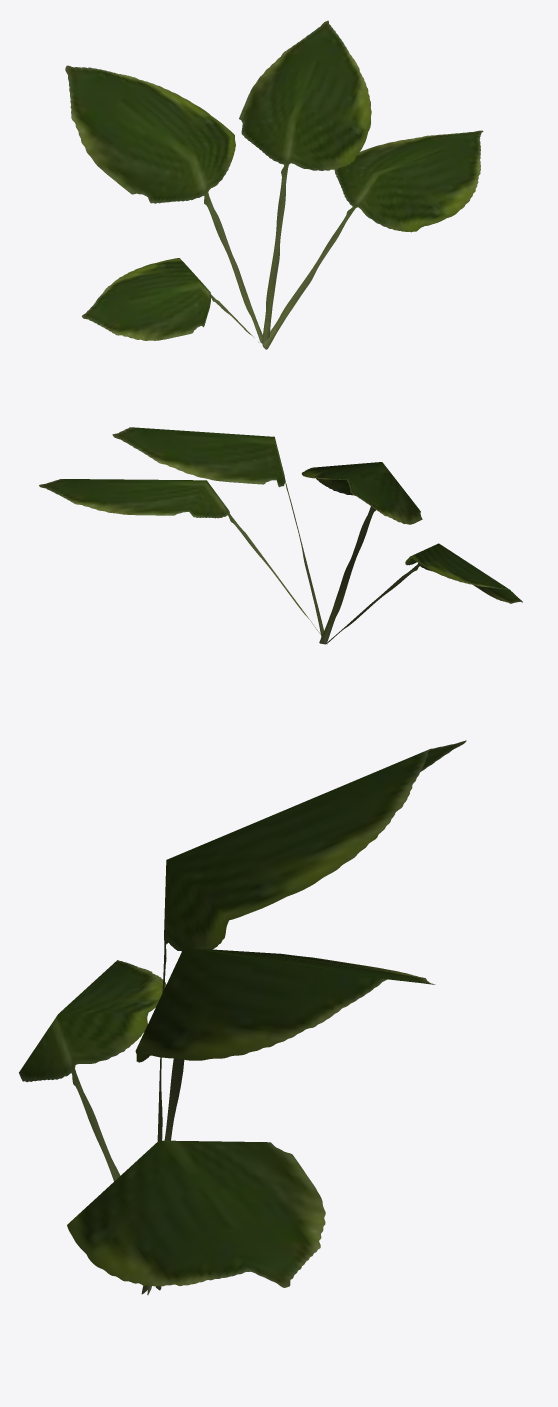
File: pm-love-death-plant.glb
3 renders of one model, top to bottom at view 1: azimuth 30°, elevation 25°; view 2: azimuth 150°, elevation 25°; view 3: azimuth 270°, elevation 25°, orthographic. The views are drawn at different scales.
Visible parts, largest first — view 1: LoveDeath_Plant_Art; view 2: LoveDeath_Plant_Art; view 3: LoveDeath_Plant_Art.
Part boxes in pixels (x1,y1,x2,y2): LoveDeath_Plant_Art: (65, 20, 483, 349); LoveDeath_Plant_Art: (39, 427, 522, 644); LoveDeath_Plant_Art: (19, 740, 466, 1294).
Bounding box in the file's own units: 2.7 × 1.54 × 1.37.
1 material, 1 textured.
